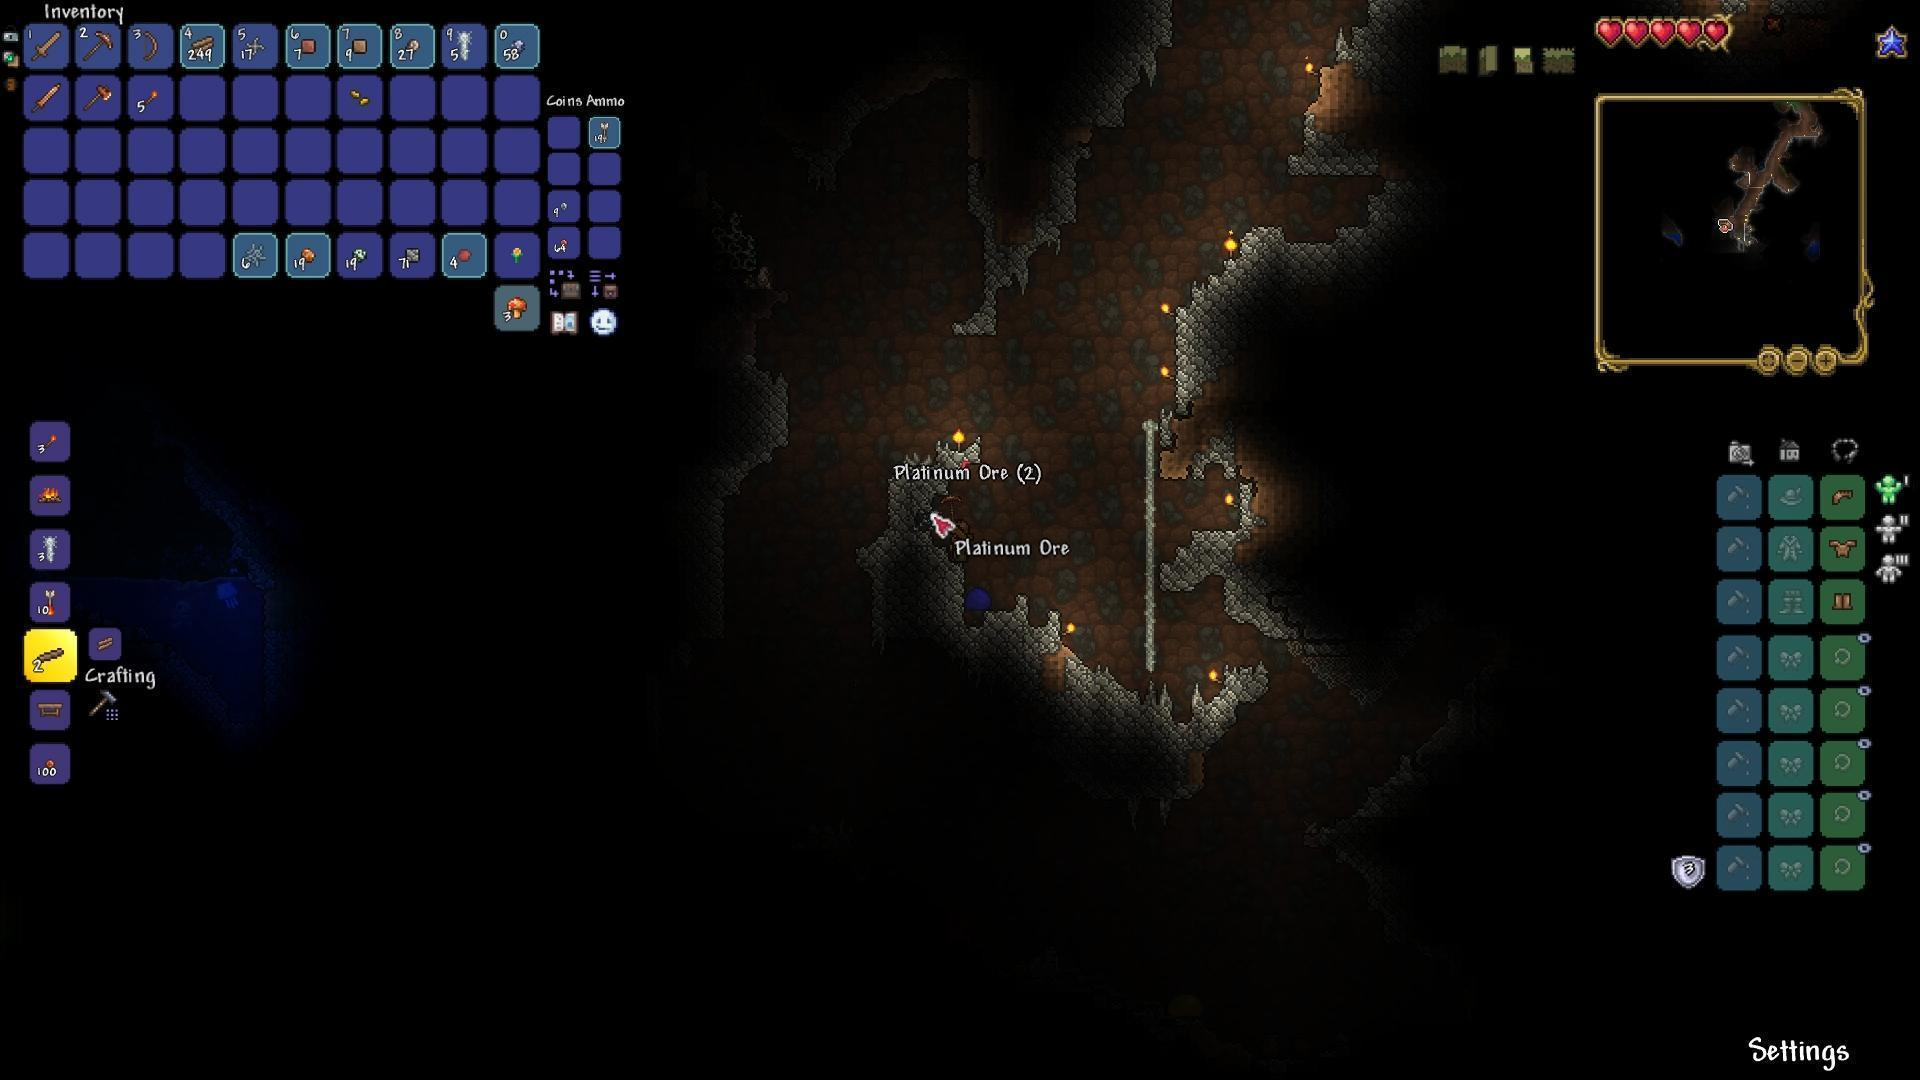arrow: (44, 587, 55, 615)
bow: (142, 26, 160, 62)
breastplate: (1829, 538, 1858, 559)
cobwebI: (243, 239, 268, 270)
gel: (454, 247, 473, 262)
heart: (1648, 17, 1677, 50), (1623, 16, 1651, 50), (1594, 17, 1625, 47), (1702, 17, 1727, 47), (1679, 18, 1702, 47)
helmet: (1830, 489, 1854, 506)
legs: (1829, 589, 1858, 612)
ore: (299, 243, 324, 266), (349, 241, 369, 266)
pickaxe: (84, 29, 115, 61)
rope: (458, 29, 472, 62), (44, 531, 59, 560)
shuriken: (247, 36, 265, 55)
slime: (964, 584, 996, 615)
